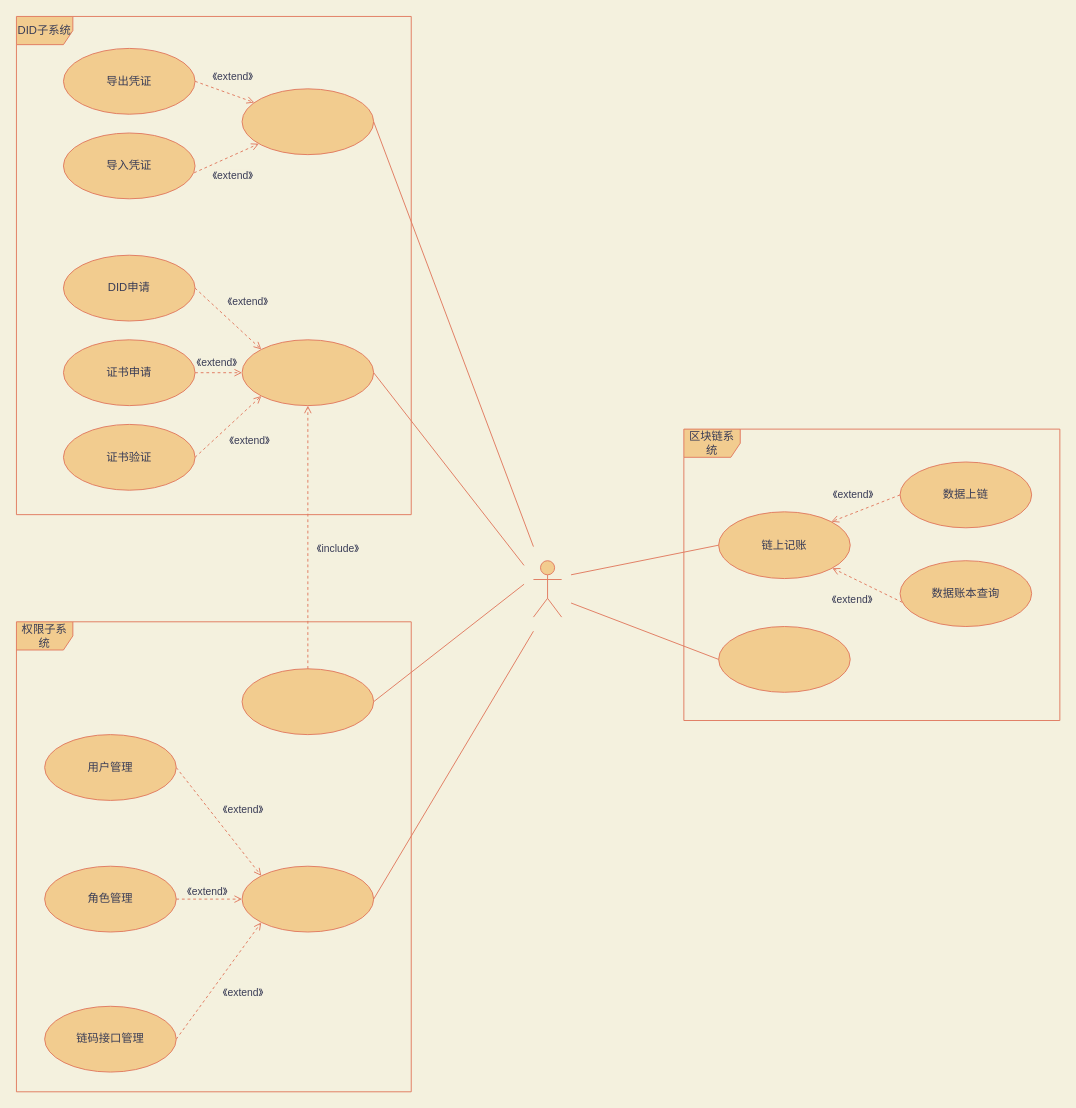
Some shapes in this 1076 by 1108 pixel diagram are drawn without their labels. The shapes that lost their labels are listed below. From the top down, each one's centre as x and y in pixels, then its label:
At [307,121]: "凭证对账".
At [307,372]: "凭证管理".
At [547,588]: "工具".
At [784,659]: "节点接入".
At [307,701]: "身份管理".
At [307,898]: "权限管理".
